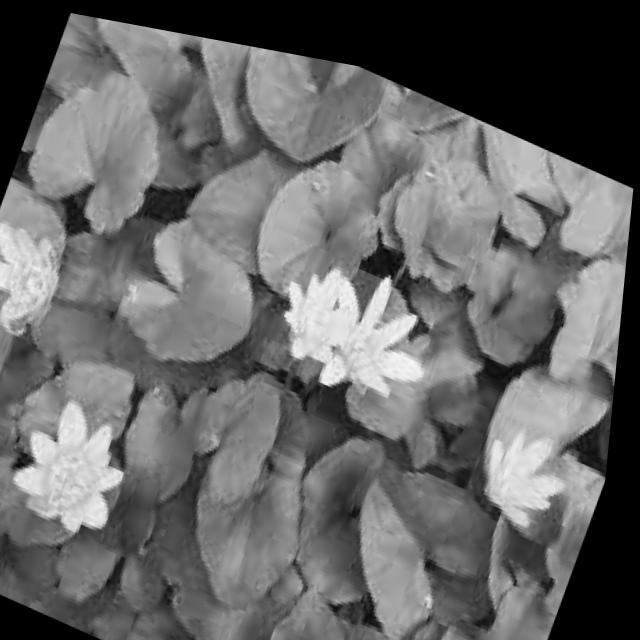Flower: (8, 377, 153, 554), (309, 240, 453, 409), (266, 231, 385, 376), (472, 383, 591, 519), (0, 210, 81, 348)
